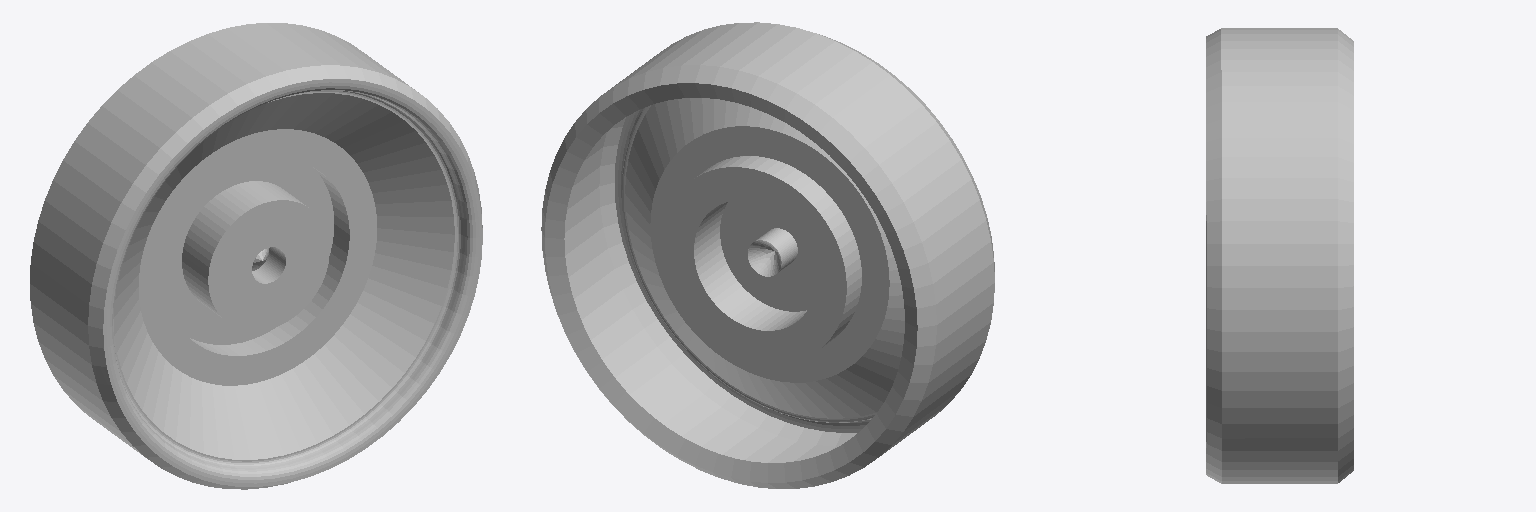
File: wheel_back_left.obj
3 renders of one model, left to right at view 1: azimuth 30°, elevation 25°; view 2: azimuth 150°, elevation 25°; view 3: azimuth 270°, elevation 25°, orthographic.
Parts seen in each view (by area): view 1: wheel_back_left; view 2: wheel_back_left; view 3: wheel_back_left.
Part boxes in pixels (bbox=[...]): wheel_back_left: bbox=[30, 23, 482, 489]; wheel_back_left: bbox=[541, 22, 994, 488]; wheel_back_left: bbox=[1206, 28, 1353, 483].
Size of the model in its own units: 1.58 by 1.58 by 0.5157.